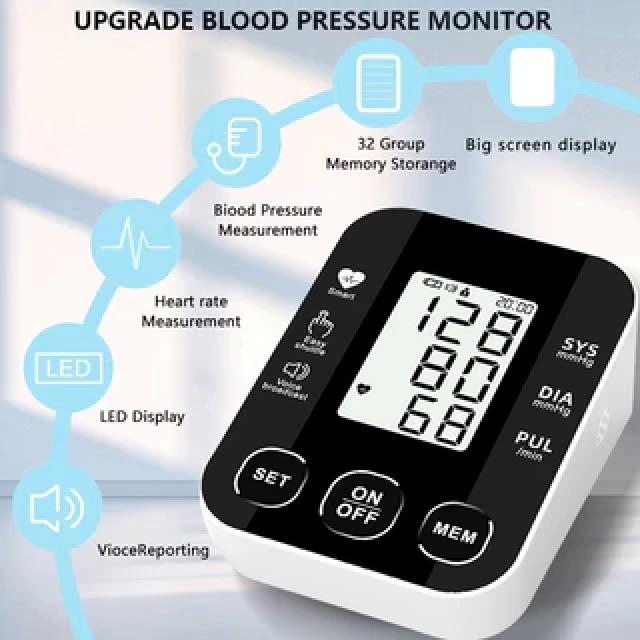dia: (393, 332, 508, 410)
pul: (383, 382, 485, 453)
ssd: (336, 244, 541, 473)
sys: (401, 284, 530, 365)
